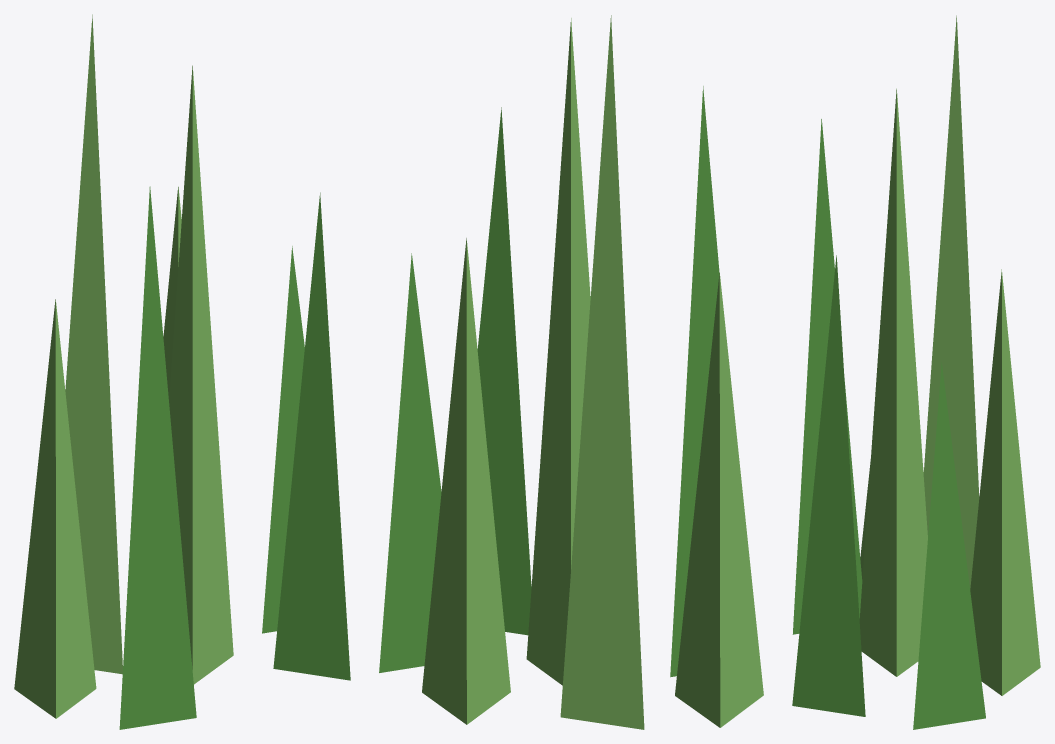
Rendered from grama.glb.
3 views of the same model, side by side, from view 1: azimuth 30°, elevation 25°; view 2: azimuth 150°, elevation 25°; view 3: azimuth 270°, elevation 25° (orthographic). The views are drawn at different scales.
Parts seen in each view (by area): view 1: grama; view 2: grama; view 3: grama.
Part boxes in pixels (x1,y1,x2,y2): grama: (14, 14, 350, 729); grama: (379, 15, 763, 729); grama: (792, 15, 1040, 729).
Size of the model in its own units: 0.2285 by 0.45 by 0.1654.
